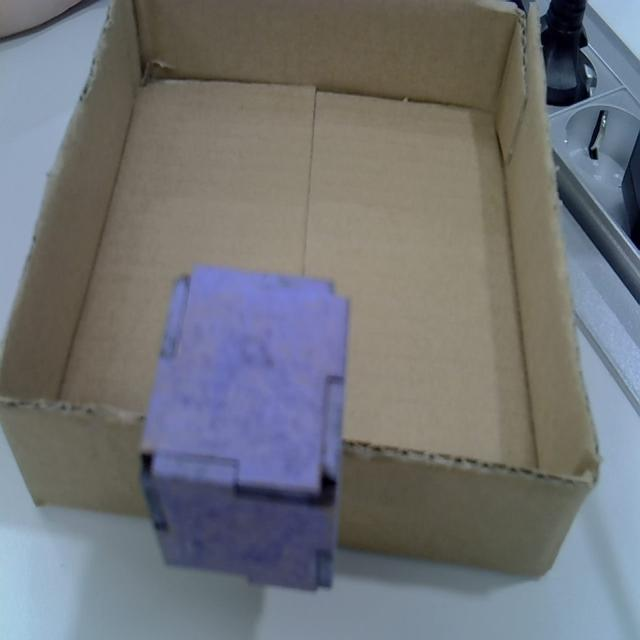purple_box: (140, 266, 350, 592)
